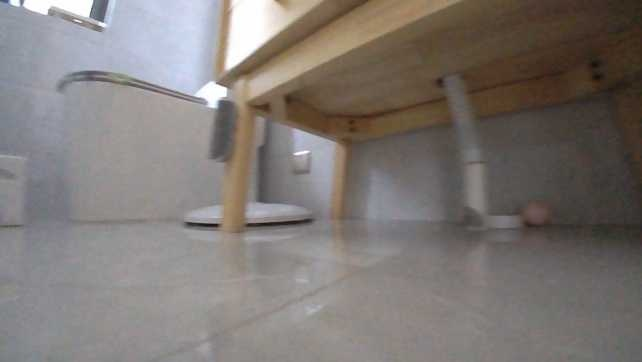toilet: (50, 65, 236, 224)
